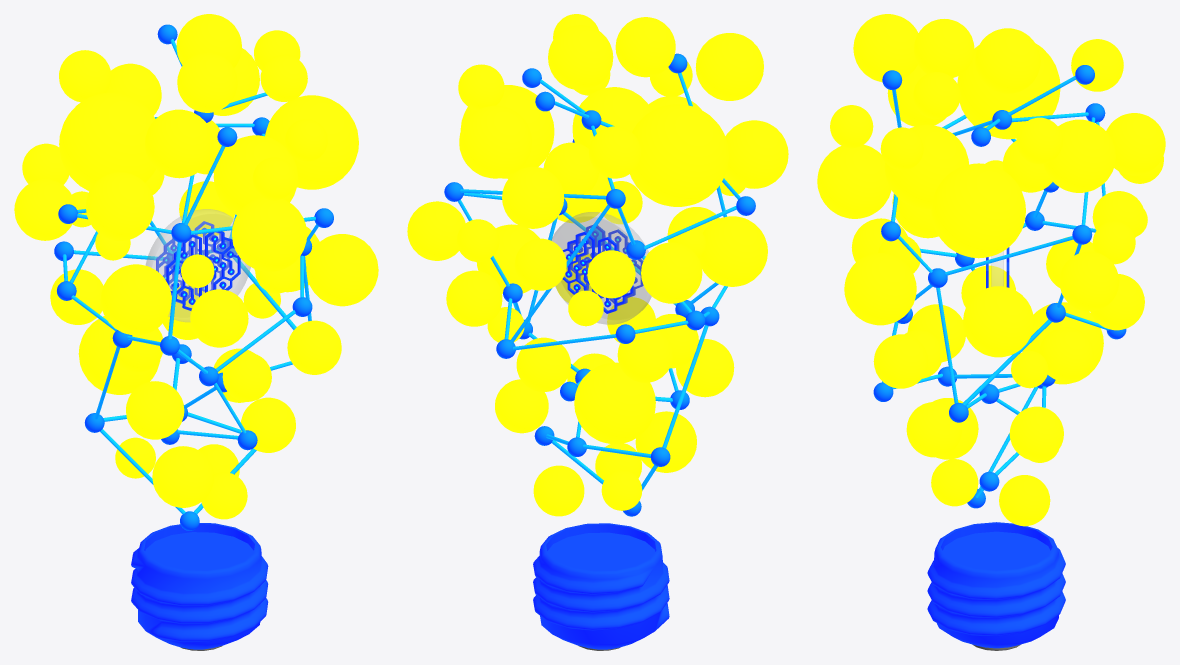
Rendered from SCAI.glb.
The picture shows the model from 3 angles, left to right: view 1: azimuth 30°, elevation 25°; view 2: azimuth 150°, elevation 25°; view 3: azimuth 270°, elevation 25°; orthographic projection.
Visible parts, largest first — view 1: bulbs, Base, paths, nodes, Logo; view 2: bulbs, Base, paths, nodes, Logo; view 3: bulbs, Base, nodes, paths, Logo.
Part boxes in pixels (x1,y1,x2,y2): bulbs: (14, 14, 378, 519); Base: (131, 523, 268, 650); paths: (62, 39, 318, 514); nodes: (54, 24, 333, 530); Logo: (146, 209, 250, 321); bulbs: (407, 14, 788, 516); Base: (533, 523, 669, 650); paths: (458, 73, 740, 490); nodes: (444, 53, 755, 516); Logo: (551, 212, 651, 324); bulbs: (817, 14, 1165, 526); Base: (927, 522, 1065, 650); nodes: (873, 65, 1126, 508); paths: (882, 76, 1109, 497); Logo: (986, 247, 1009, 288).
Size of the model in its own units: 0.0836 by 0.1705 by 0.0865.
